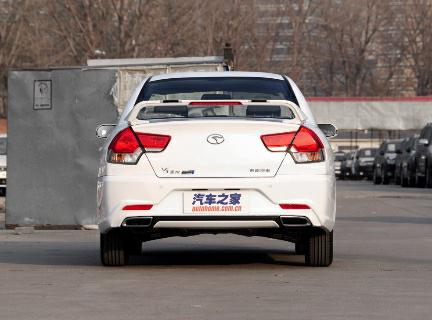东南-V3菱悦: (93, 65, 343, 269)
